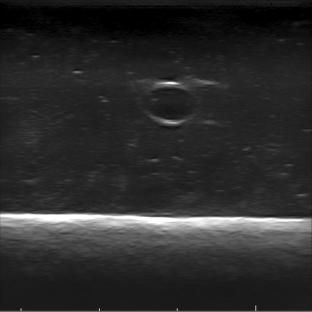vessel: (140, 80, 199, 126)
